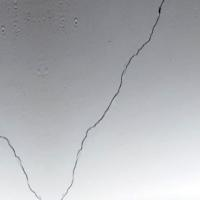crack: (0, 0, 163, 199)
